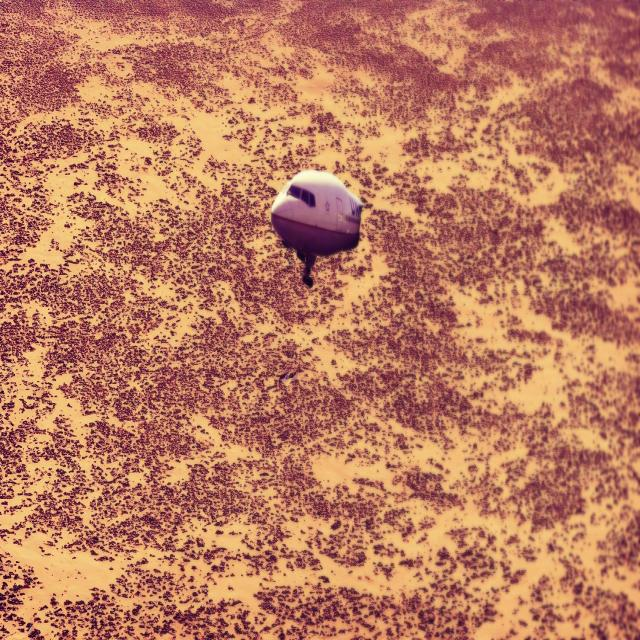airplane: (270, 168, 363, 284)
